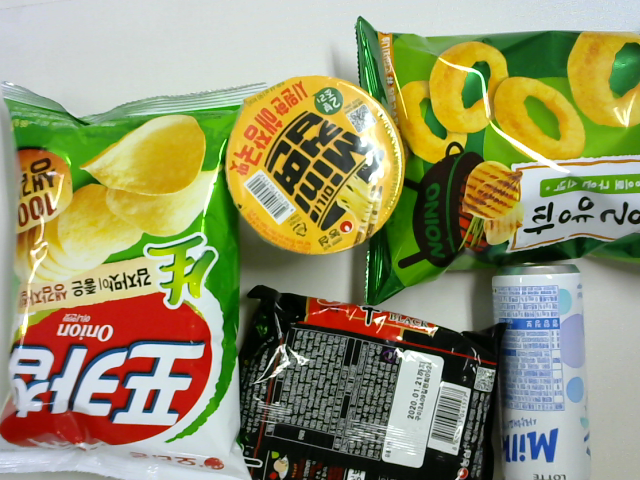Grilled_Onions: (345, 20, 640, 281)
Hejangmini: (231, 78, 401, 252)
Milkies_250ml: (487, 256, 605, 480)
Pocachip_Onion: (3, 74, 253, 480)
Sinramen_Black: (237, 290, 505, 480)
